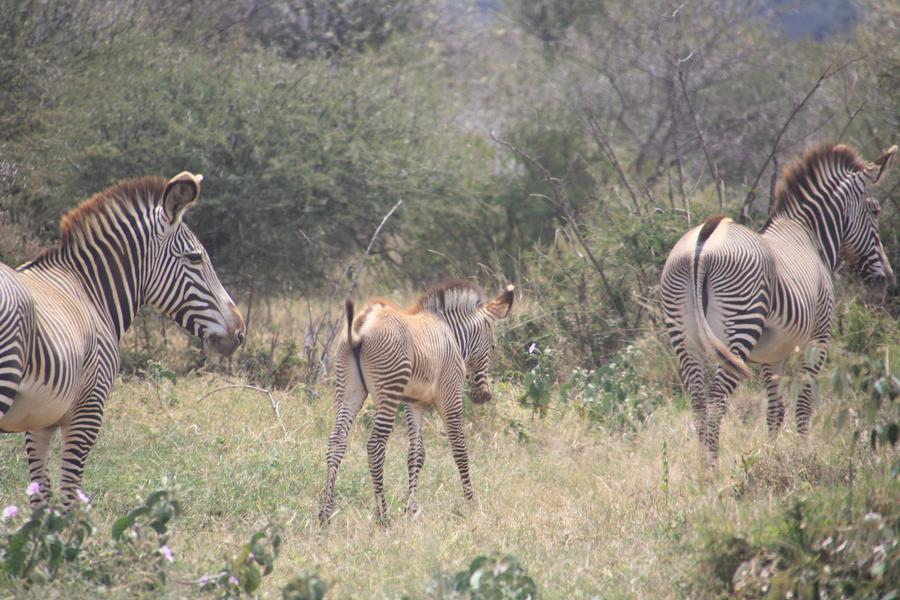zebra_grevys: (350, 297, 462, 397)
